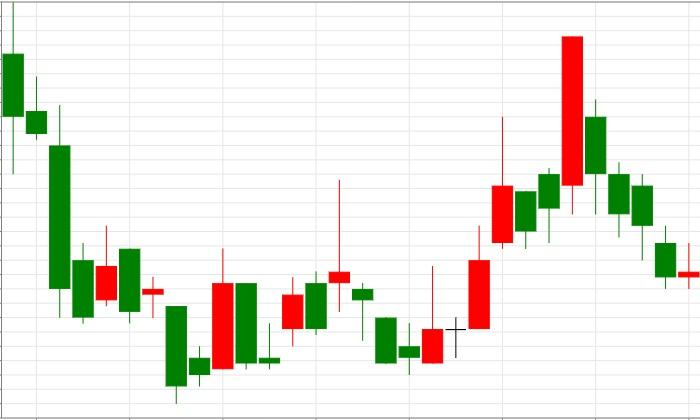inverse_hammer_rise: (328, 179, 444, 375)
